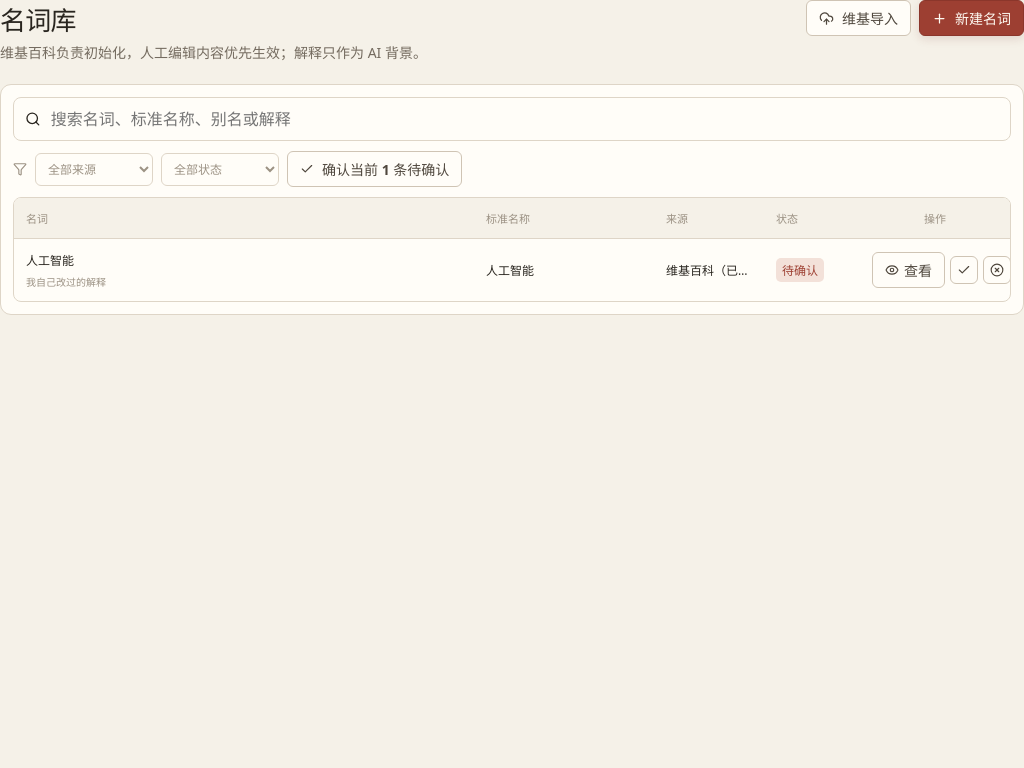
Test: 名词库的维基导入与来源展示 › 人工编辑过的条目提示不会被同步覆盖并可对比维基快照
Click the button "查看" at (908, 270), box [872,252,945,288]
(page scrolled)
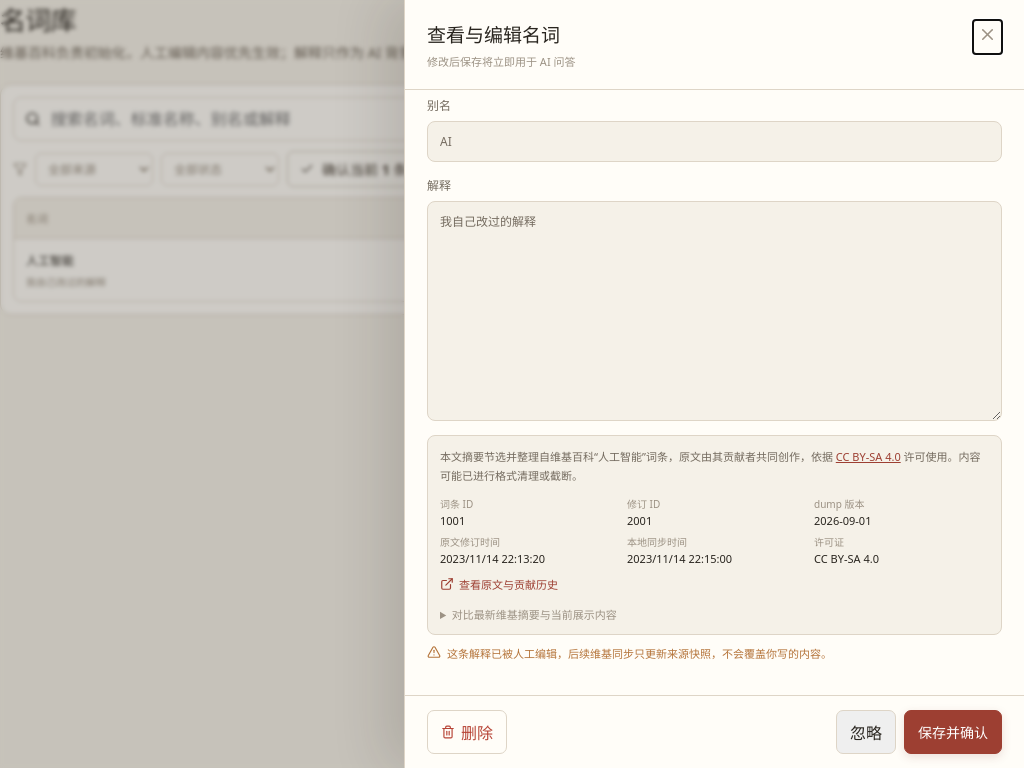
Result: the text "这条解释已被人工编辑，后续维基同步只更新来源快照，不会覆盖你写的内容。" is shown at [427,645,832,661]
Click the heading "对比最新维基摘要与当前展示内容" at (534, 614), box [452,607,617,622]
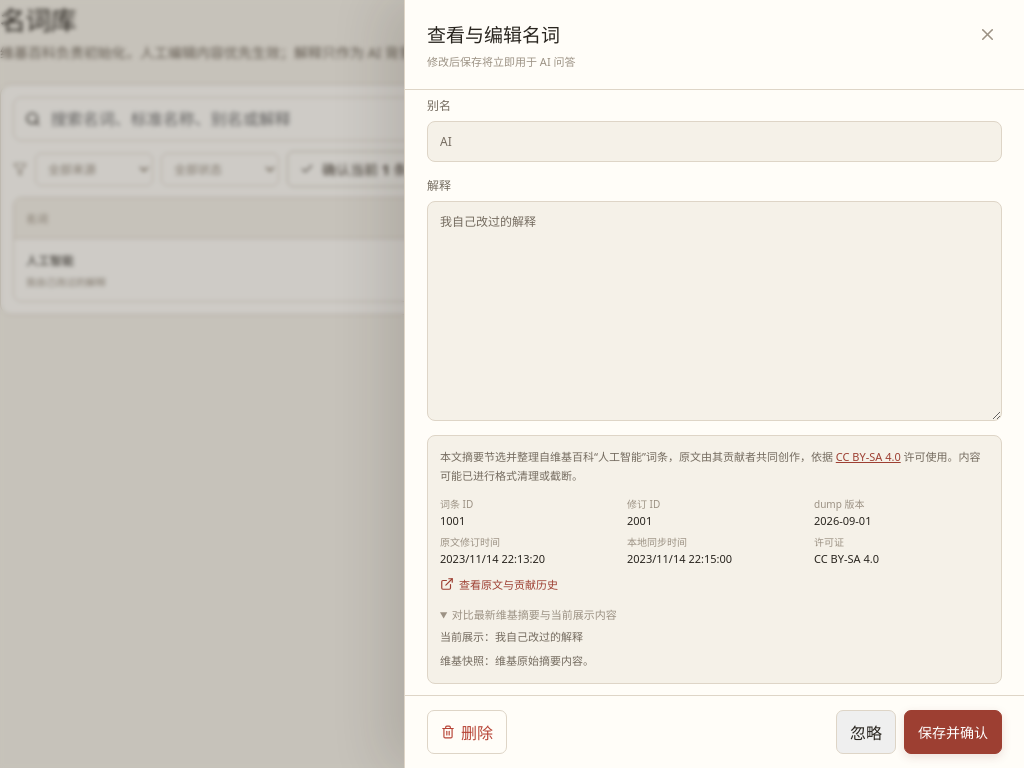
Result: the text "维基快照：维基原始摘要内容。" is shown at [440,653,594,668]
